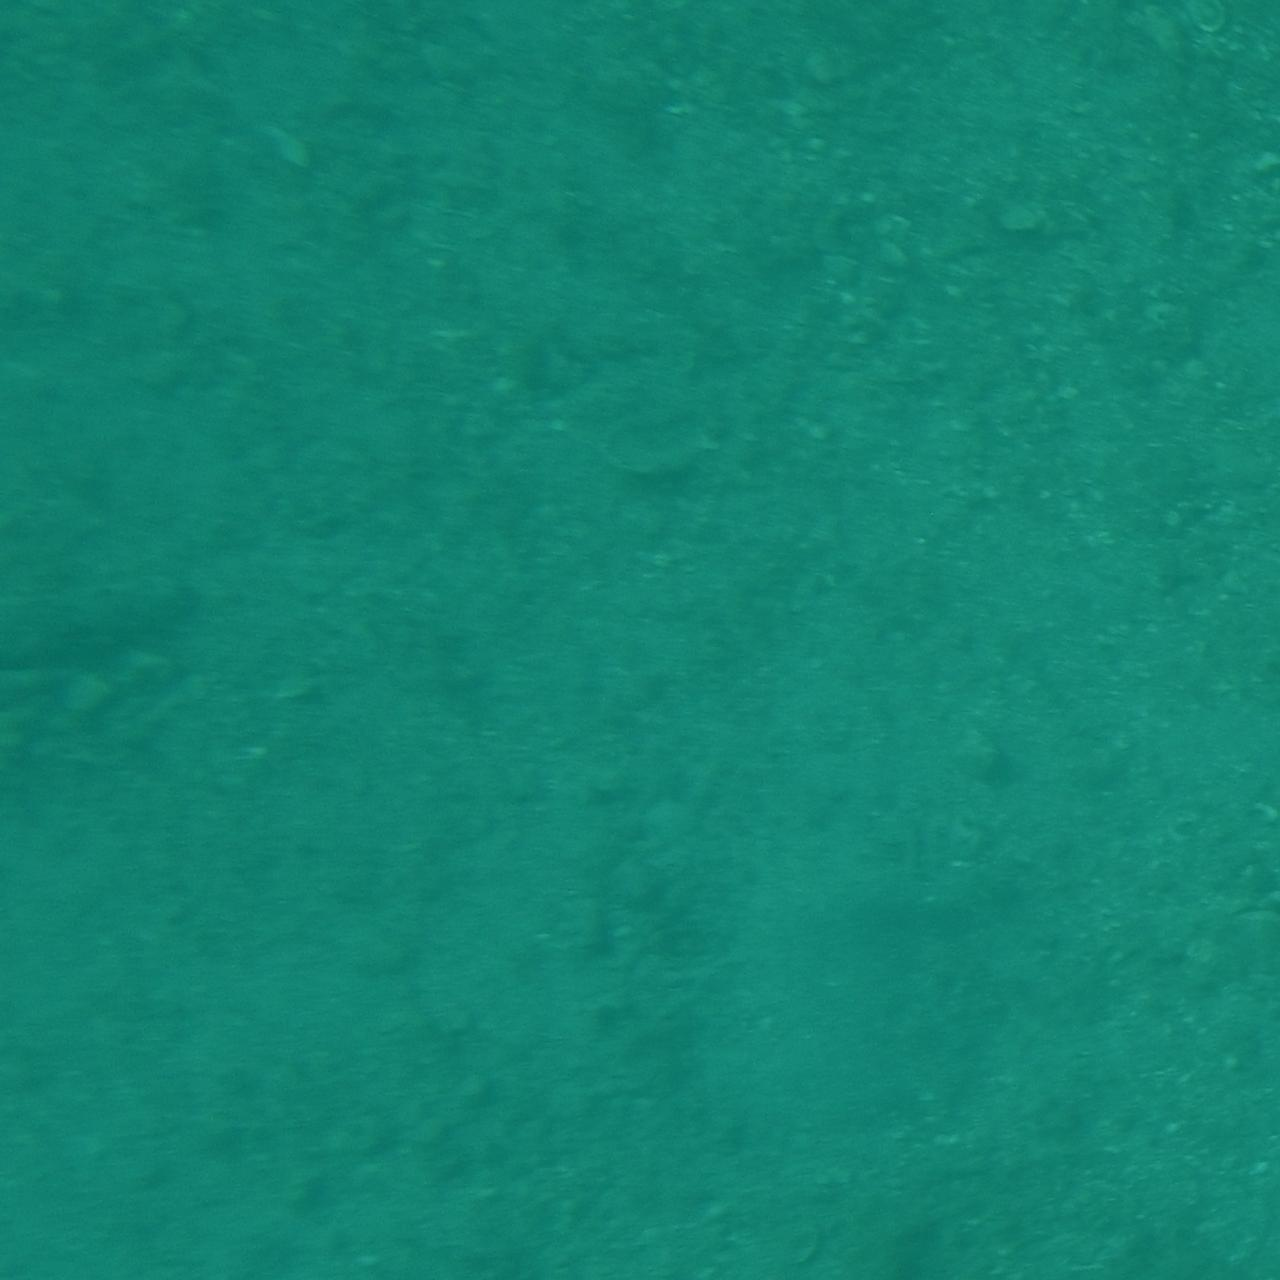Holothuria tubulosa: (0, 547, 178, 733)
